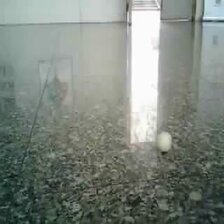pp: (156, 131, 173, 153)
